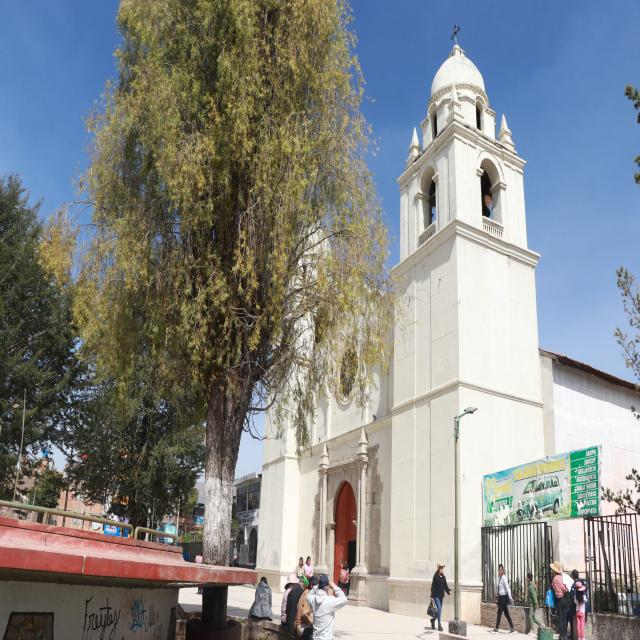CAMPANARIO: (394, 127, 533, 255)
CUPULA: (416, 25, 506, 141)
PORTADA CENTRAL: (309, 428, 376, 610)
TORRES: (389, 3, 555, 614)
colonial-architecture-: (176, 0, 612, 626)
